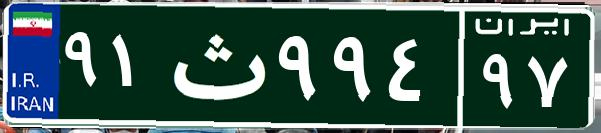1: (110, 28, 158, 105)
4: (385, 28, 445, 110)
7: (525, 38, 570, 115)
9: (273, 28, 330, 110), (330, 28, 385, 110), (57, 26, 110, 107), (475, 38, 525, 113)
ث: (158, 15, 273, 115)
